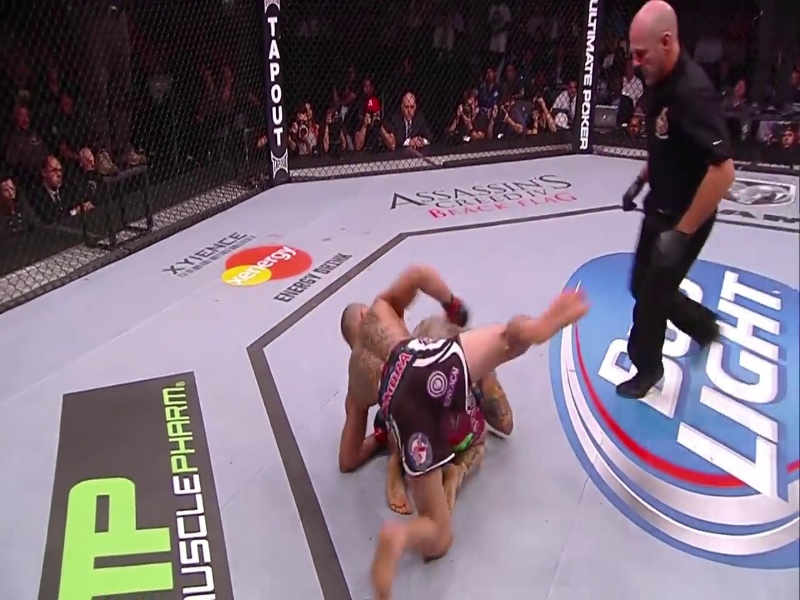fighter: (325, 255, 598, 600), (382, 303, 519, 517)
